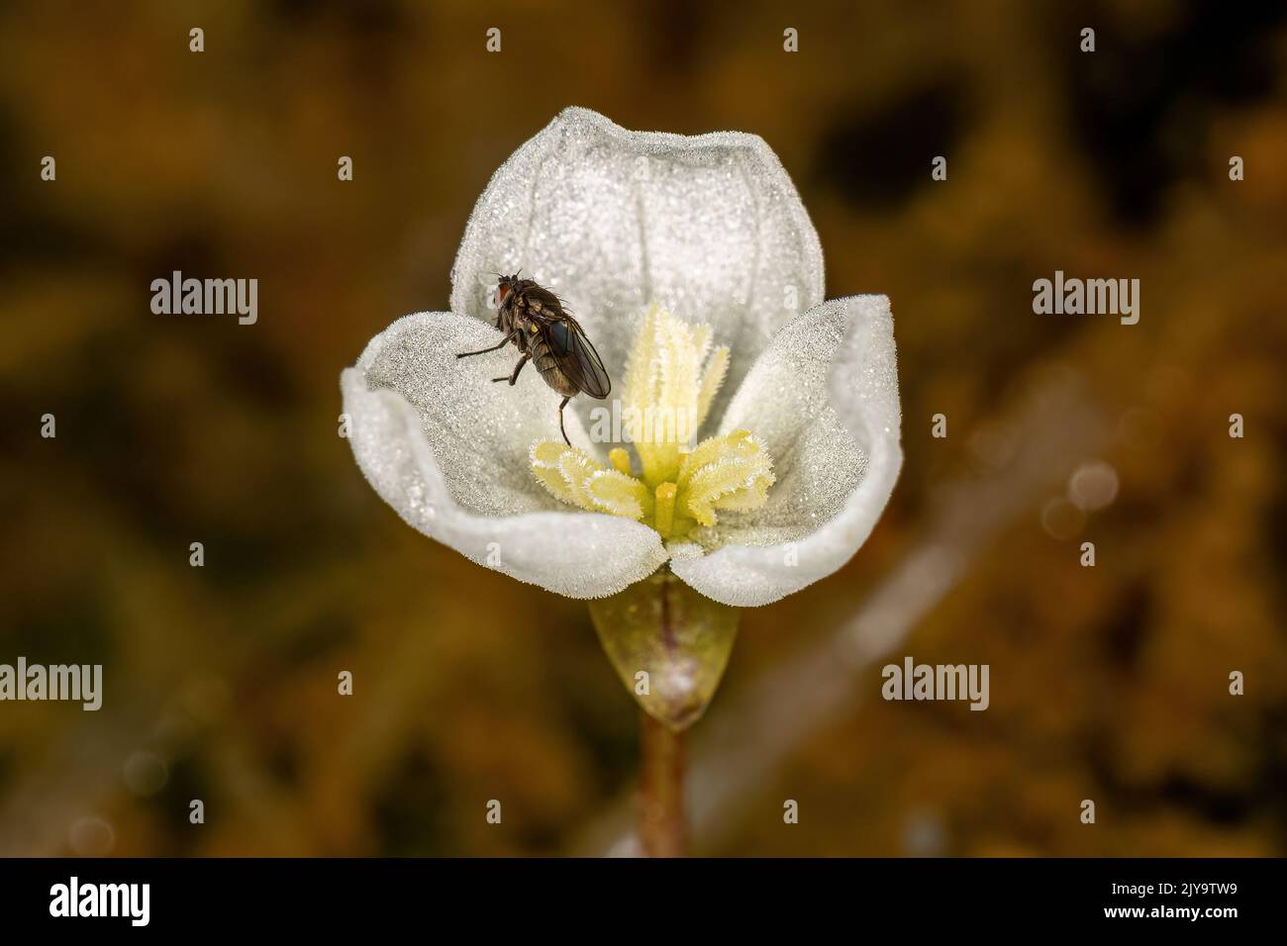Ephydridae: (455, 267, 616, 452)
